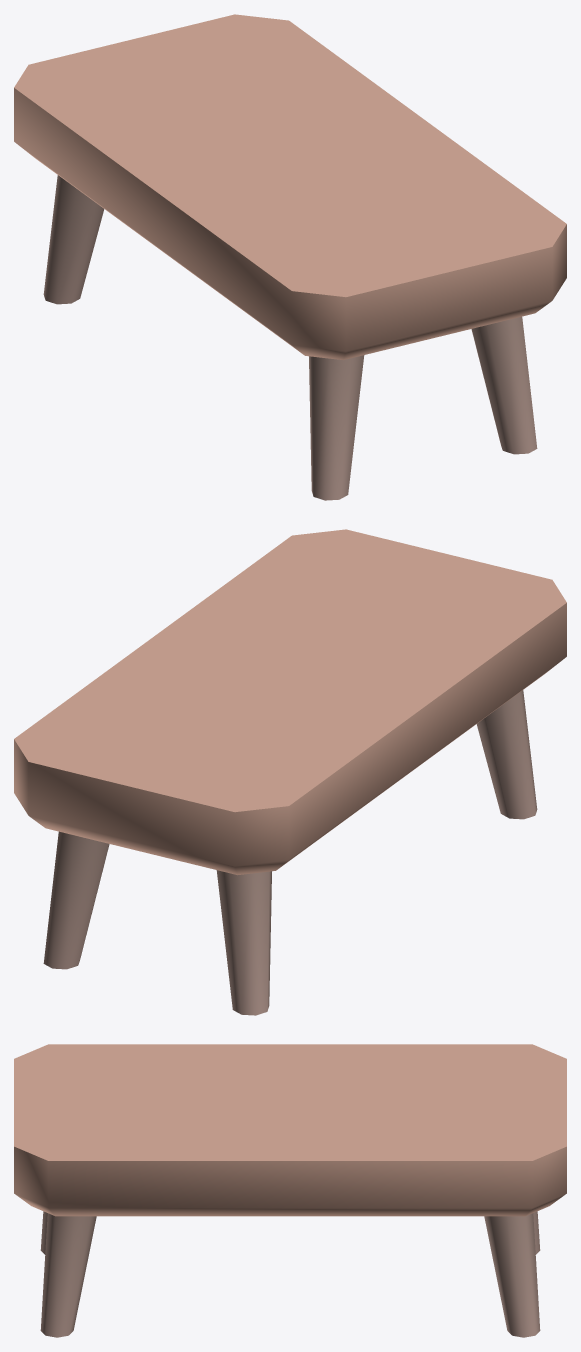
The model's file is wooden-stool-double.glb.
The picture shows the model from 3 angles, top to bottom: view 1: azimuth 30°, elevation 25°; view 2: azimuth 150°, elevation 25°; view 3: azimuth 270°, elevation 25°; orthographic projection. The views are drawn at different scales.
Parts seen in each view (by area): view 1: wooden-stool-double; view 2: wooden-stool-double; view 3: wooden-stool-double.
Boxes of the visible parts, x1=… form: wooden-stool-double: x1=14, y1=14, x2=566, y2=500; wooden-stool-double: x1=14, y1=529, x2=566, y2=1015; wooden-stool-double: x1=14, y1=1044, x2=566, y2=1337.
Bounding box in the file's own units: 0.4 × 0.3 × 0.8.
